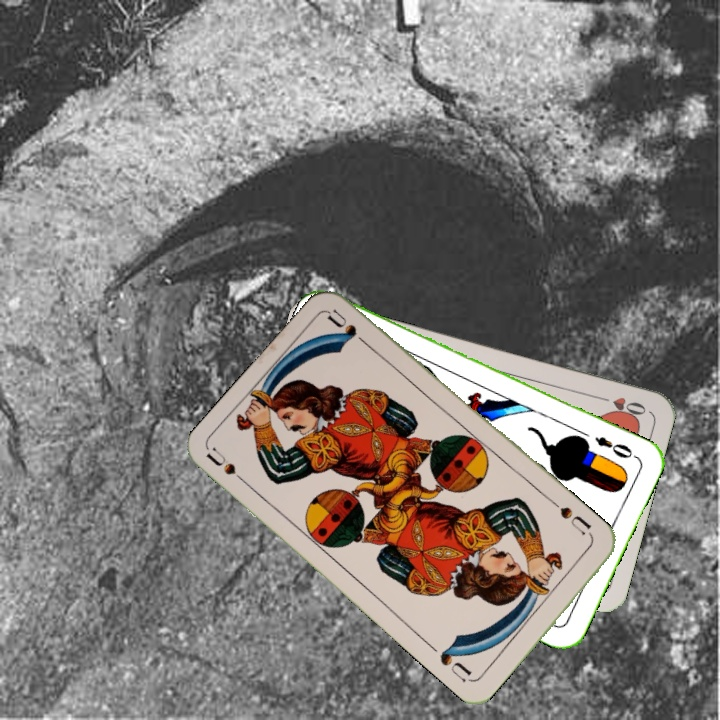EO: (590, 432, 640, 461)
HO: (592, 391, 649, 421)
SU: (203, 445, 255, 491), (549, 497, 594, 538)
